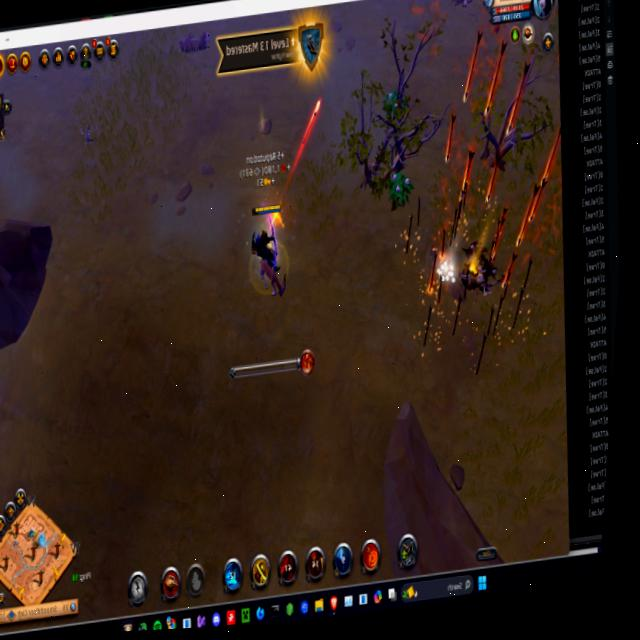hide: (384, 164, 415, 213), (379, 84, 406, 123)
mob: (170, 22, 215, 61)
ore: (254, 247, 292, 308)
red: (243, 196, 294, 304)
stone: (428, 255, 460, 293)
